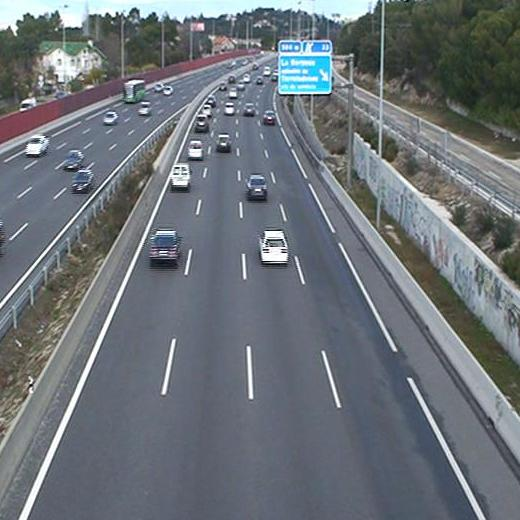car: (257, 228, 290, 265), (150, 229, 183, 263), (244, 172, 268, 200), (194, 113, 210, 132), (187, 140, 203, 158), (261, 108, 277, 126), (215, 134, 231, 151), (243, 103, 257, 116), (223, 102, 234, 114)
van: (168, 163, 192, 190)
